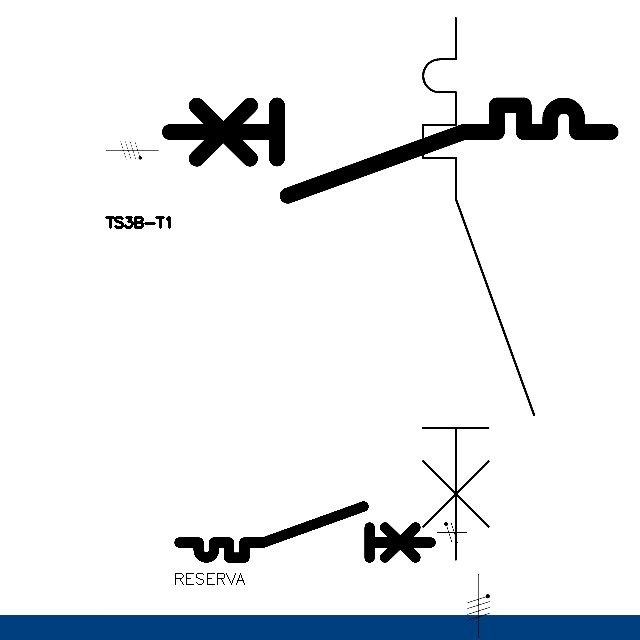interruptor_termomagnetico: (409, 4, 548, 573), (158, 94, 621, 207), (173, 500, 437, 564)
